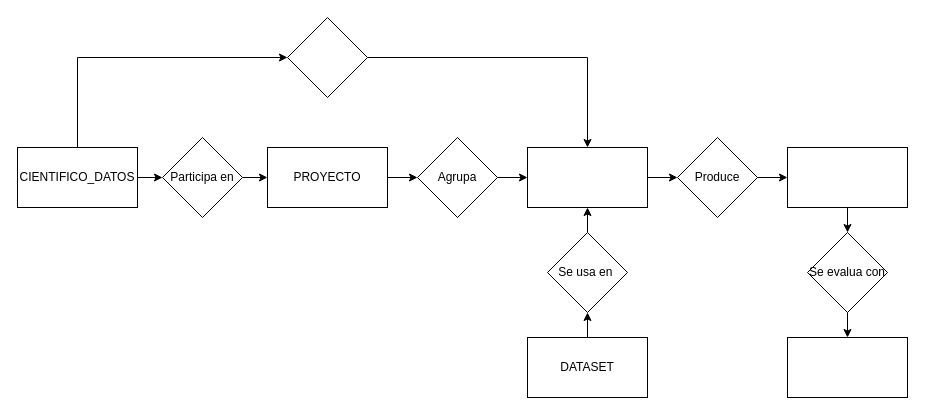
Some shapes in this 925 by 415 pixel diagram are drawn without their labels. The centre of each missing label's shape, as x and y in pixels:
Ejecuta: point (327, 57)
EXPERIMENTO: point (587, 177)
METRICA: point (847, 367)
MODELO: point (847, 177)
